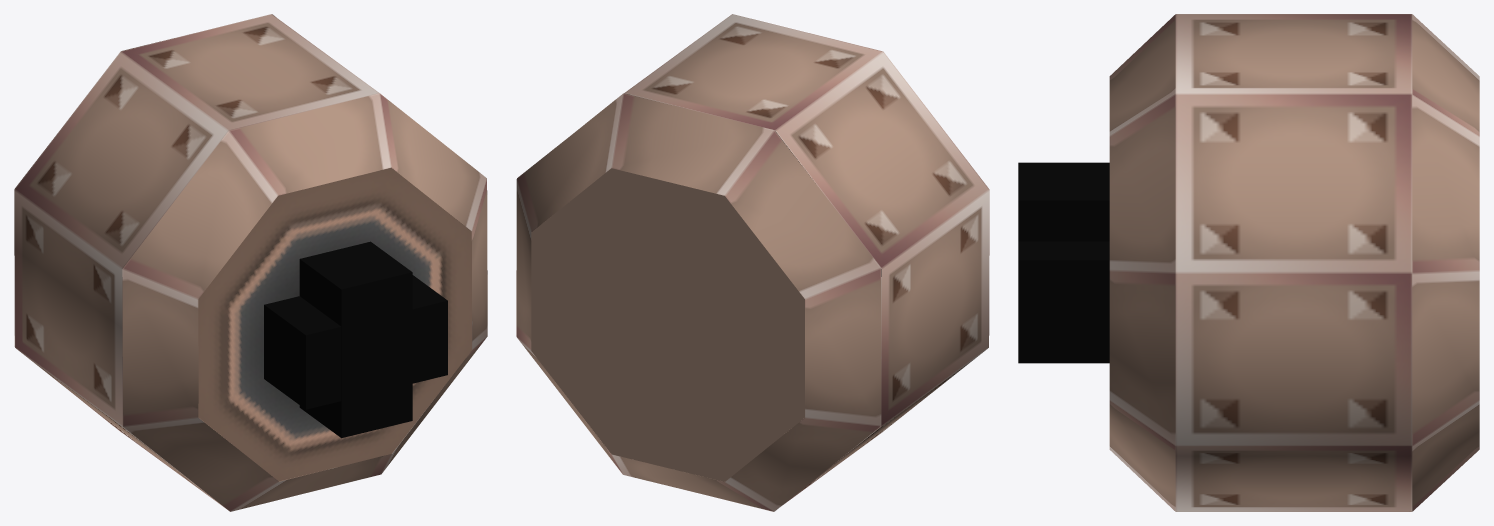
The model's file is Motor.dae.
3 views of the same model, side by side, from view 1: azimuth 30°, elevation 25°; view 2: azimuth 150°, elevation 25°; view 3: azimuth 270°, elevation 25° (orthographic). The views are drawn at different scales.
Visible parts, largest first — view 1: Middle (×2), Front, TipV, TipH; view 2: Back, Middle, BackMiddle; view 3: Middle (×2), BackMiddle, TipV, TipH.
Part boxes in pixels (<box>): Middle (×2): <box>14,14,487,511</box>; Front: <box>198,167,471,481</box>; TipV: <box>299,241,412,438</box>; TipH: <box>264,275,447,409</box>; Back: <box>531,168,804,481</box>; Middle: <box>516,14,989,511</box>; BackMiddle: <box>516,93,881,511</box>; Middle (×2): <box>1109,14,1412,511</box>; BackMiddle: <box>1412,14,1479,511</box>; TipV: <box>1018,162,1109,363</box>; TipH: <box>1018,241,1109,341</box>.
Bounding box in the file's own units: 1.85 × 1.85 × 1.85.
7 materials, 4 textured.
